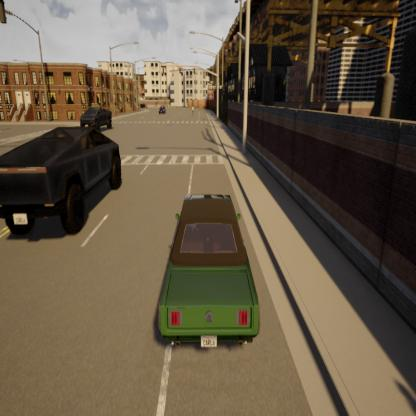Cars: (150, 186, 266, 356), (0, 121, 131, 248), (77, 100, 117, 133), (158, 105, 168, 116)
